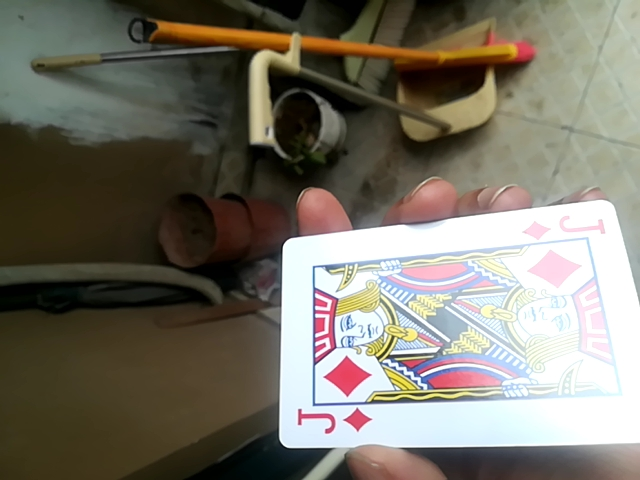fk j: (275, 198, 640, 453)
